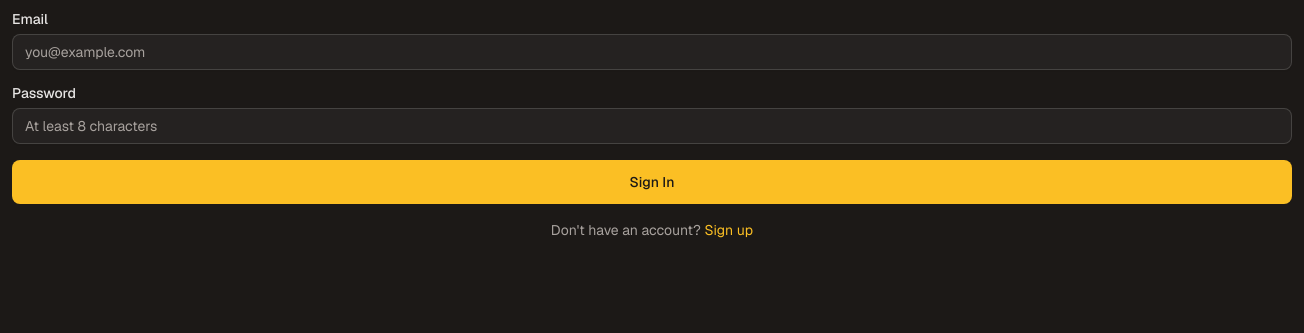
Scenario: EmailPasswordForm › toggles to sign-up mode
This screenshot has width=1304, height=333.
Click the button "Sign up" at (729,230), box [704,220,753,240]
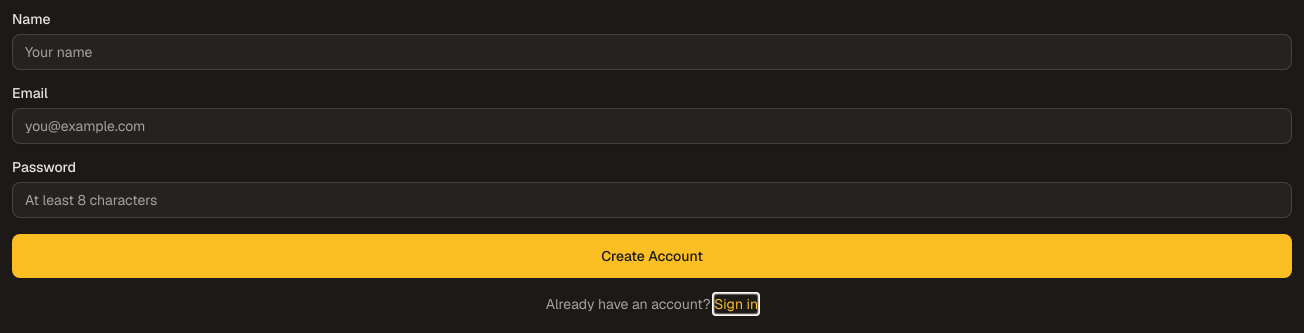
Check: the field labelled "Name" is shown, box [12,34,1292,70]
Check: the button "Create Account" is shown, box [12,234,1292,278]
